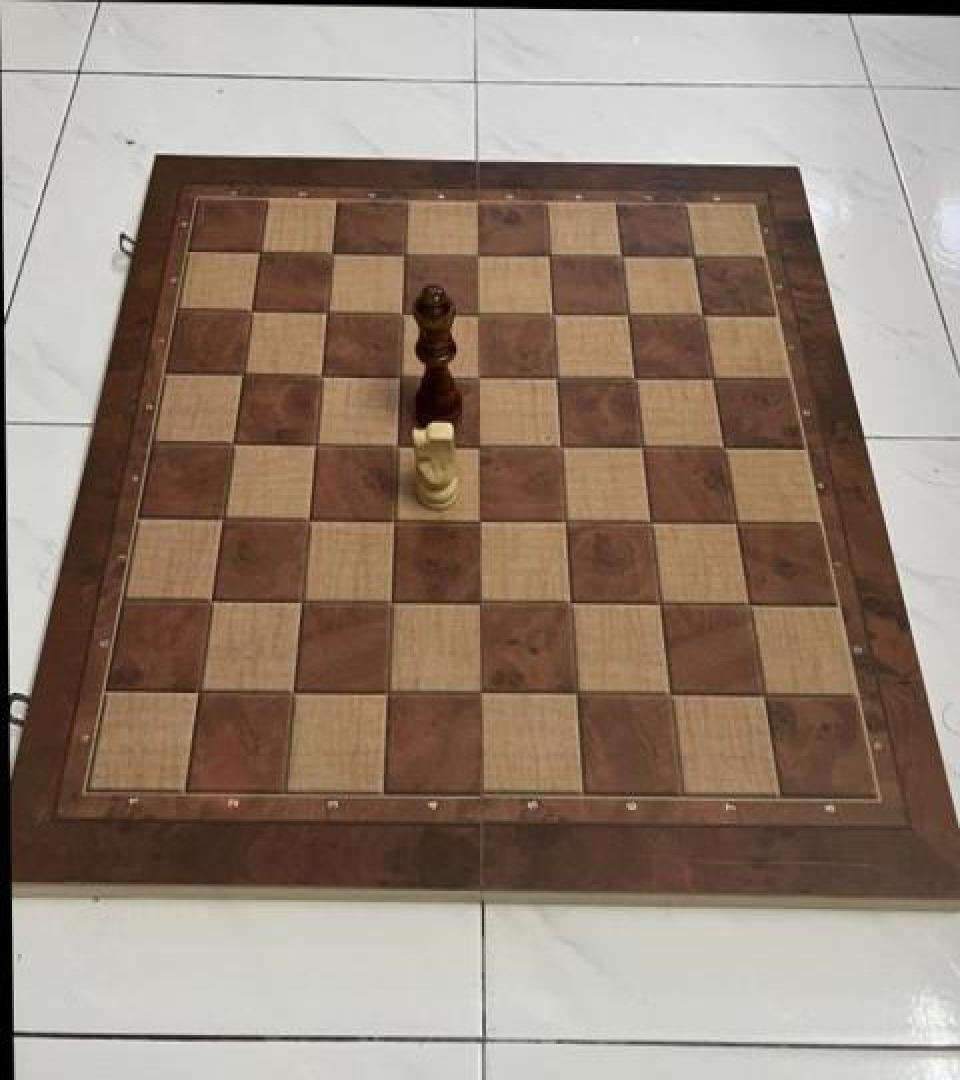xcorner: (674, 237, 708, 276), (459, 291, 493, 330), (384, 290, 418, 329), (381, 353, 415, 392), (275, 669, 309, 708), (602, 236, 636, 274), (530, 234, 564, 272), (458, 233, 492, 271), (386, 232, 420, 270), (314, 231, 348, 269), (242, 230, 276, 268), (683, 296, 717, 334), (608, 295, 642, 333), (534, 292, 568, 330), (309, 289, 343, 327), (234, 287, 268, 325), (693, 359, 727, 397), (615, 358, 649, 396), (537, 357, 571, 395), (459, 354, 493, 392), (303, 352, 337, 390), (225, 350, 259, 388), (705, 429, 739, 467), (623, 426, 657, 464), (542, 426, 576, 464), (460, 424, 494, 462), (379, 422, 413, 460), (297, 421, 331, 459), (216, 420, 250, 458), (717, 504, 751, 542), (632, 502, 666, 540), (546, 501, 580, 539), (461, 498, 495, 536), (376, 498, 410, 536), (290, 496, 324, 534), (205, 494, 239, 532), (730, 586, 764, 624), (641, 585, 675, 623), (551, 583, 585, 621), (462, 582, 496, 620), (373, 580, 407, 618), (283, 578, 317, 616), (194, 576, 228, 614), (745, 678, 779, 716), (651, 676, 685, 714), (557, 674, 591, 712), (463, 673, 497, 711), (369, 670, 403, 708), (181, 667, 215, 705)
